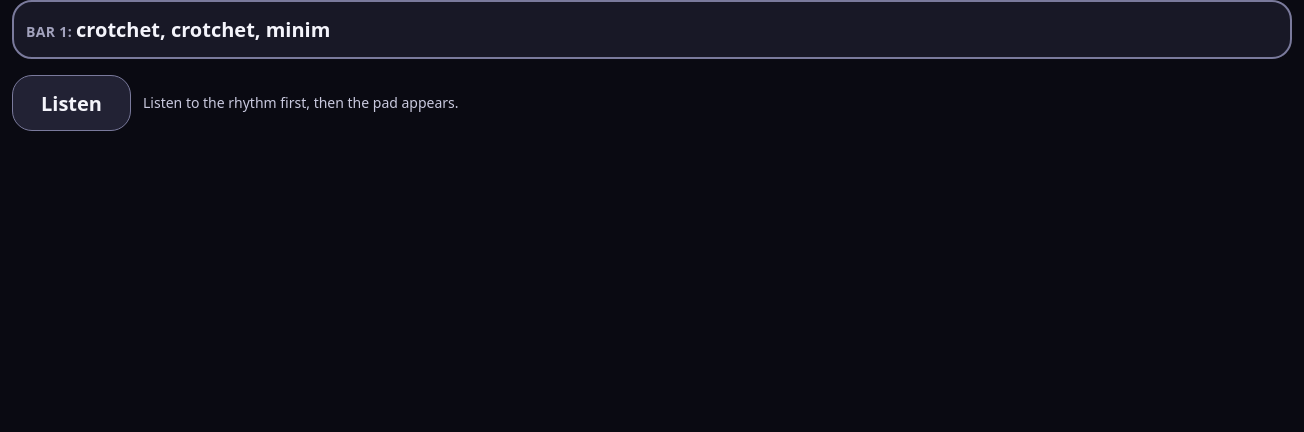
TapRhythm: listenFirst › plays the passage from the Listen click, then shows the pad
The width and height of the screenshot is (1304, 432).
Click the button "Listen".
click(72, 103)  # box left=12, top=75, right=131, bottom=131
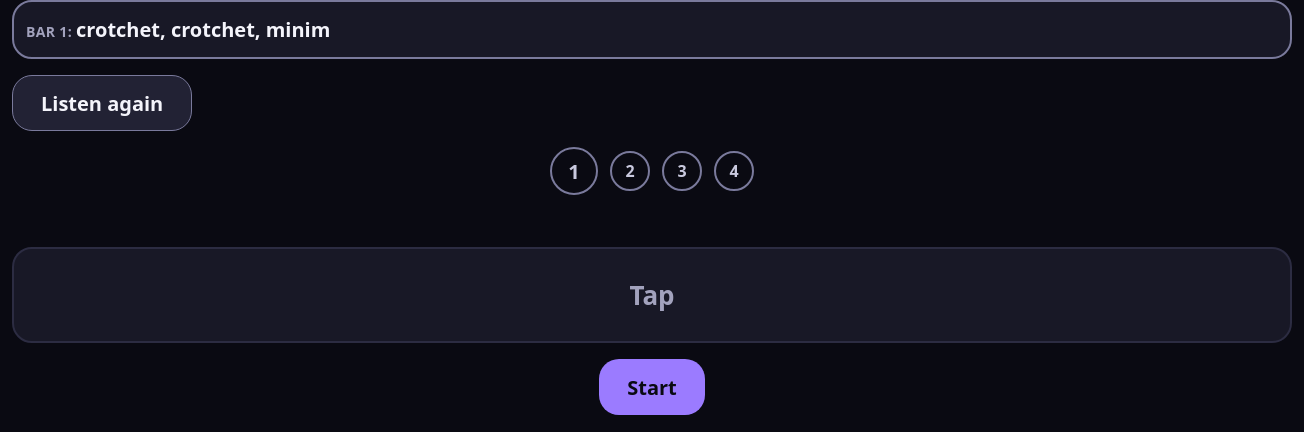
Expected: the button "Listen again" is enabled, left=12, top=75, right=192, bottom=131
Now the button "Start" is shown, box left=599, top=359, right=705, bottom=415
